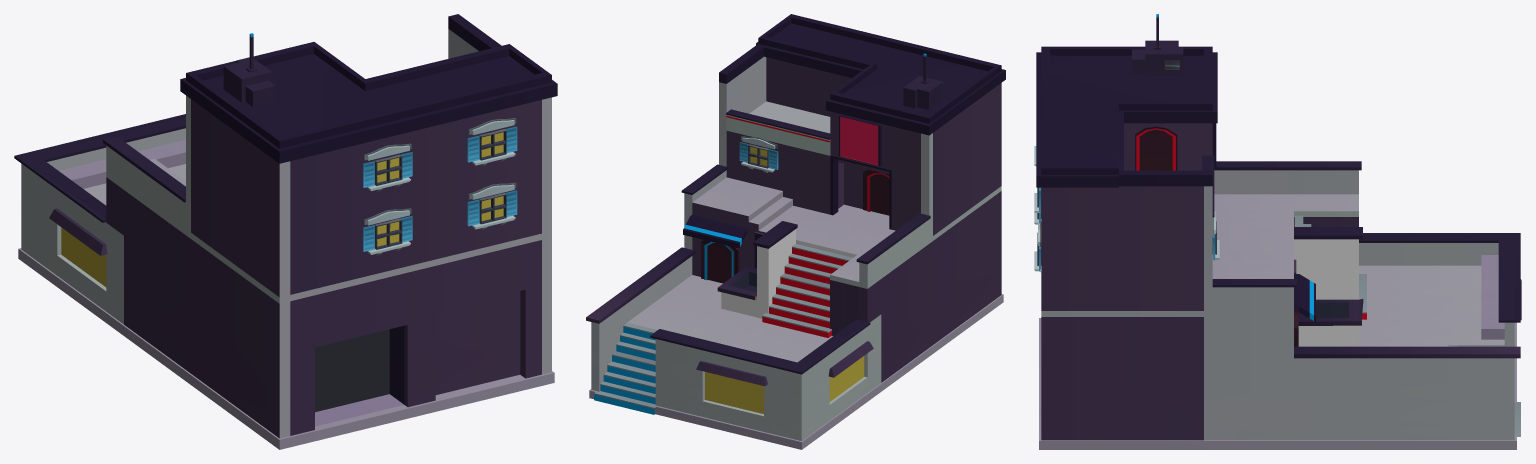
Rendered from Building_Apartment02.fbx.
3 views of the same model, side by side, from view 1: azimuth 30°, elevation 25°; view 2: azimuth 150°, elevation 25°; view 3: azimuth 270°, elevation 25° (orthographic). The views are drawn at different scales.
Visible parts, largest first — view 1: Radar Guy; view 2: Radar Guy; view 3: Radar Guy.
Part boxes in pixels (left/top/right/bottom): Radar Guy: left=14, top=14, right=557, bottom=449; Radar Guy: left=586, top=14, right=1005, bottom=449; Radar Guy: left=1034, top=14, right=1521, bottom=449.
Bounding box in the file's own units: 779 × 946 × 1269.
